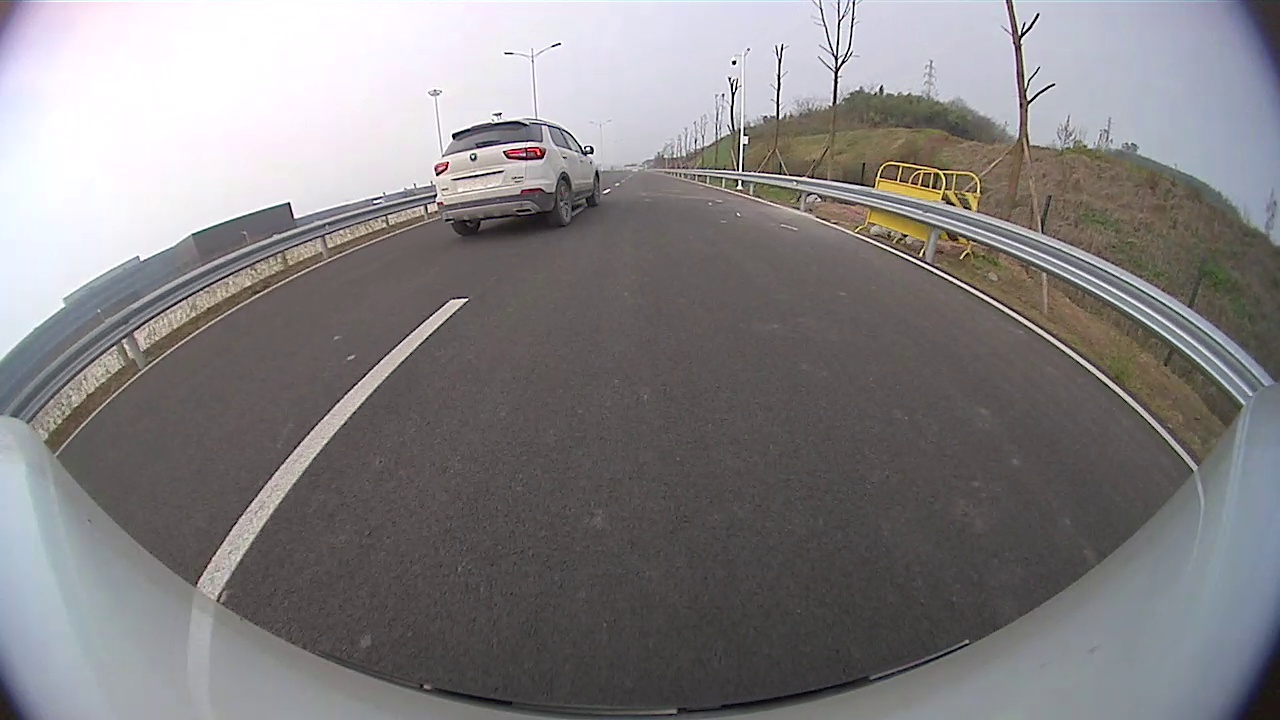car: (433, 117, 605, 239)
front: (590, 173, 602, 208)
rear: (554, 178, 573, 227)
